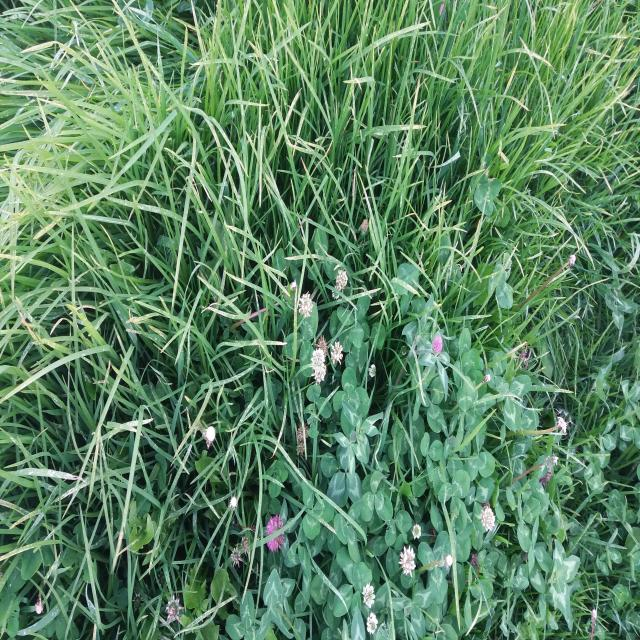Four Leaf Clover: (332, 367, 370, 436)
